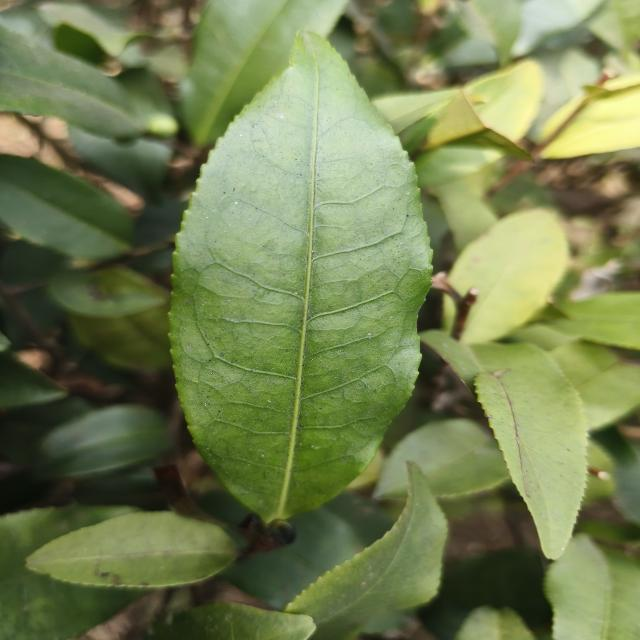Leaf: (170, 32, 431, 520), (420, 330, 587, 559), (285, 462, 447, 640), (180, 0, 347, 146), (0, 506, 146, 640), (0, 25, 146, 138), (26, 511, 238, 588), (449, 208, 569, 344), (69, 69, 179, 200), (224, 507, 360, 611), (0, 155, 133, 260), (374, 418, 510, 499), (545, 534, 640, 640), (40, 404, 169, 478), (541, 74, 640, 158), (550, 342, 640, 430), (464, 60, 543, 142), (551, 292, 640, 350), (414, 146, 503, 189), (363, 612, 409, 633)
